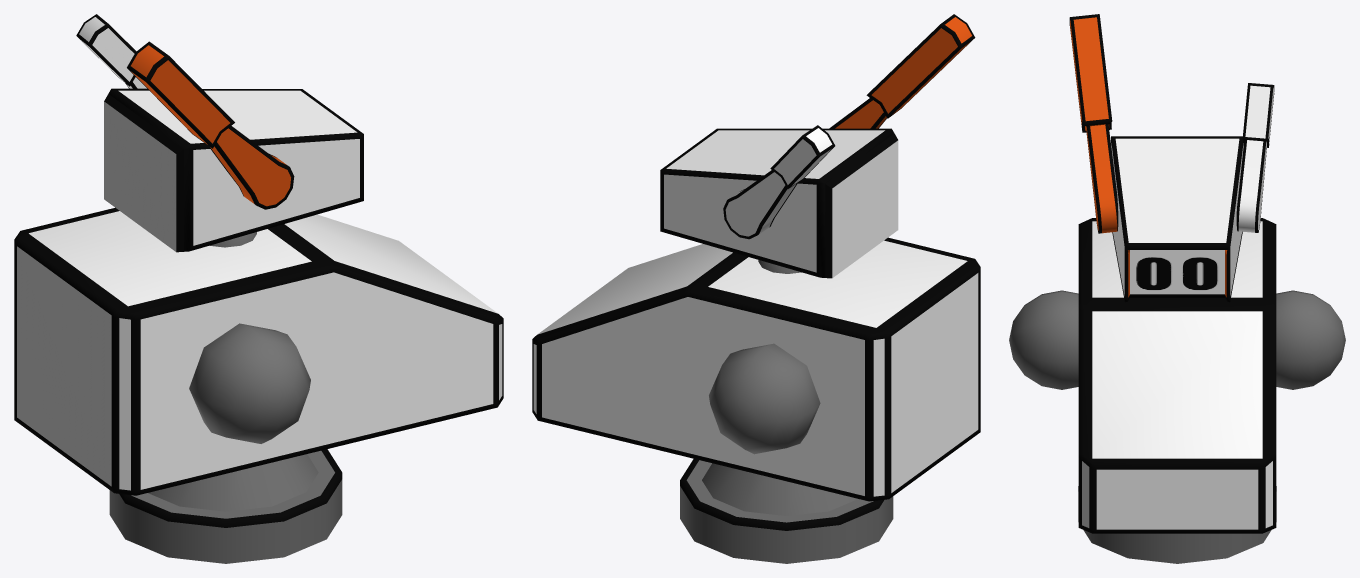
File: PlayerTorsoHeadSeperate.fbx
3 renders of one model, left to right at view 1: azimuth 30°, elevation 25°; view 2: azimuth 150°, elevation 25°; view 3: azimuth 270°, elevation 25°, orthographic. The views are drawn at different scales.
Visible parts, largest first — view 1: Mech Torso.001, Mech Torso.002; view 2: Mech Torso.001, Mech Torso.002; view 3: Mech Torso.001, Mech Torso.002.
Boxes of the visible parts, x1=… form: Mech Torso.001: x1=14, y1=207, x2=503, y2=563; Mech Torso.002: x1=76, y1=14, x2=363, y2=252; Mech Torso.001: x1=532, y1=237, x2=980, y2=563; Mech Torso.002: x1=660, y1=14, x2=975, y2=278; Mech Torso.001: x1=1009, y1=218, x2=1345, y2=563; Mech Torso.002: x1=1069, y1=14, x2=1274, y2=302.
Size of the model in its own units: 1.35 by 1.54 by 2.03.
